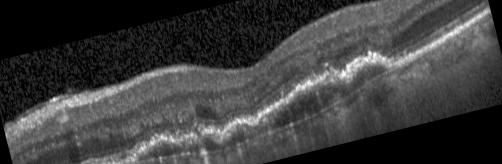intraretinal_cyst: (195, 104, 218, 119)
subretinal_fluid: (273, 85, 348, 128), (137, 140, 189, 160), (225, 124, 268, 145), (351, 65, 388, 89), (189, 137, 219, 152)
